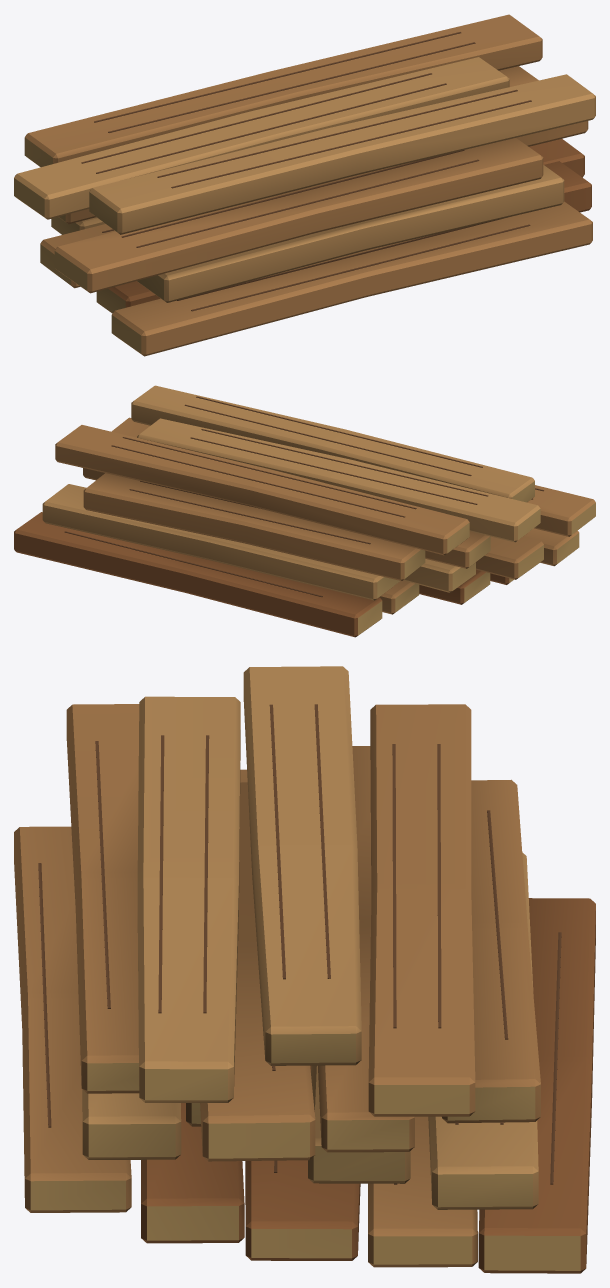
The model's file is plank-stack.glb.
3 renders of one model, top to bottom at view 1: azimuth 30°, elevation 25°; view 2: azimuth 150°, elevation 25°; view 3: azimuth 270°, elevation 25°, orthographic. The views are drawn at different scales.
Visible parts, largest first — view 1: plank-stack; view 2: plank-stack; view 3: plank-stack.
Boxes of the visible parts, left/top/right/bottom form: plank-stack: left=14, top=14, right=595, bottom=356; plank-stack: left=14, top=385, right=595, bottom=637; plank-stack: left=14, top=666, right=595, bottom=1273.
Bounding box in the file's own units: 2.9 × 0.5847 × 1.62.
